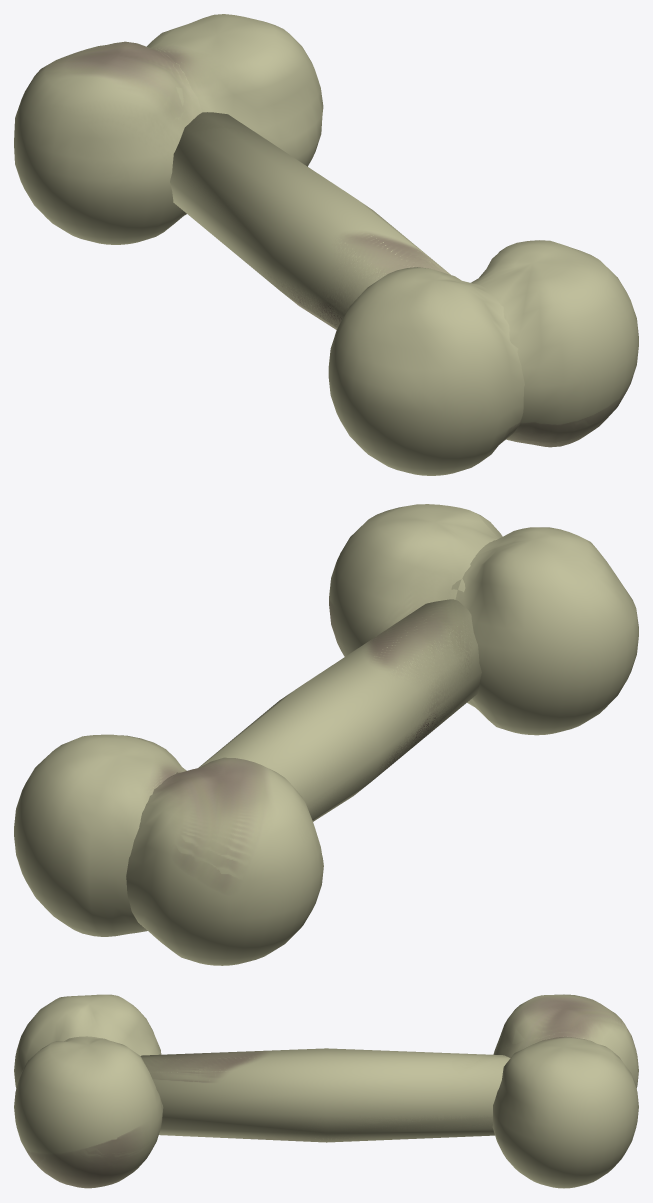
The model's file is Bone.fbx.
3 renders of one model, top to bottom at view 1: azimuth 30°, elevation 25°; view 2: azimuth 150°, elevation 25°; view 3: azimuth 270°, elevation 25°, orthographic. The views are drawn at different scales.
Visible parts, largest first — view 1: Cylinder; view 2: Cylinder; view 3: Cylinder.
Boxes of the visible parts, x1,y1,x2,y2 form: Cylinder: (14, 14, 638, 475); Cylinder: (14, 504, 638, 965); Cylinder: (14, 994, 638, 1188).
Size of the model in its own units: 6.44 by 16.15 by 4.03.
